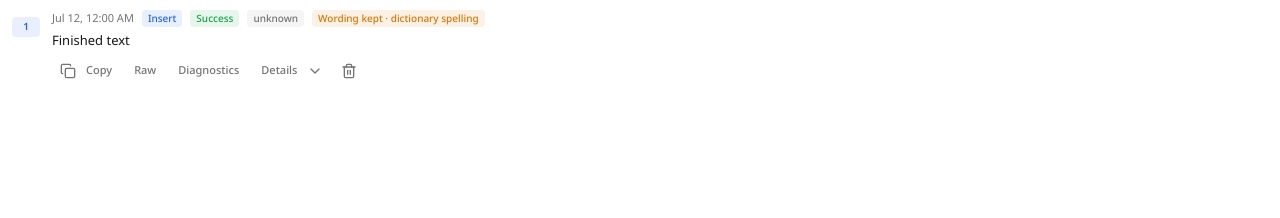
Test: TranscriptionItem › reports dictionary spelling repair without claiming the fallback was byte-identical
Check: the text "Wording kept · dictionary spelling" is shown, box [312,10,485,27]
Step 1. Click the button "Details" → (292, 70), box [253,58,332,82]
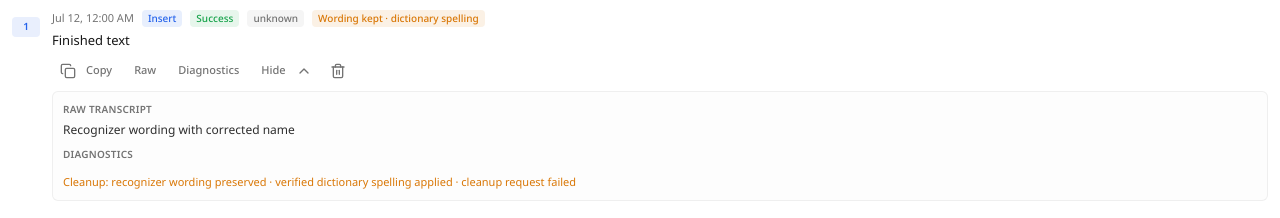
Check: the text "Cleanup: recognizer wording preserved" shows "verified dictionary spelling applied", box [111,174,453,188]
